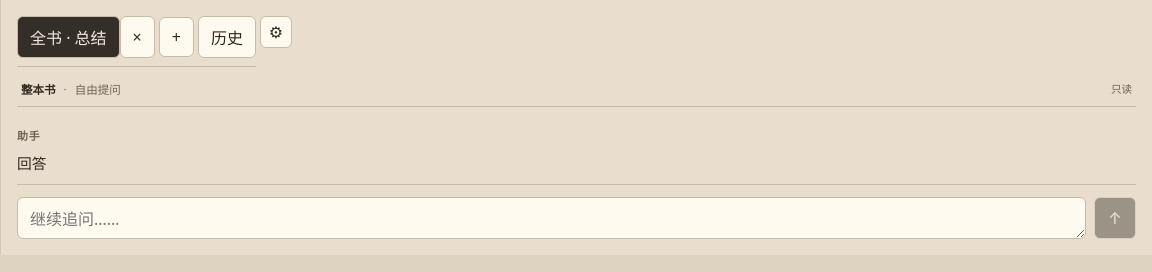
it: RightAiPanel › 全书认知菜单展示三种策略并立即提交选择
The width and height of the screenshot is (1152, 272).
Click the button named "全书认知设置": (276, 32) [260, 16, 292, 48]
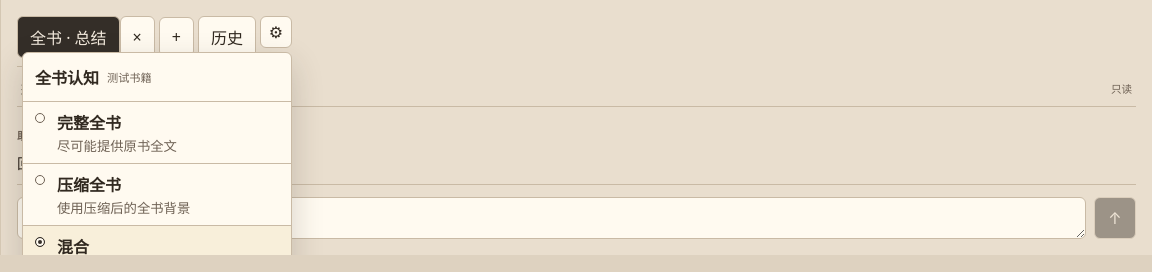
Check: the element named "全书认知" is shown, box [23, 102, 291, 255]
Check: the number of radio buttons is 3
Click the radio button labelled "完整全书 尽可能提供原书全文": (89, 123) [23, 102, 291, 164]
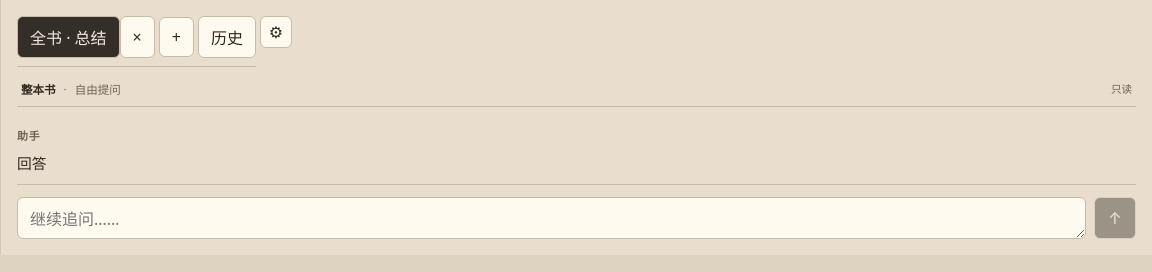
Check: the text "全书认知" is gone
